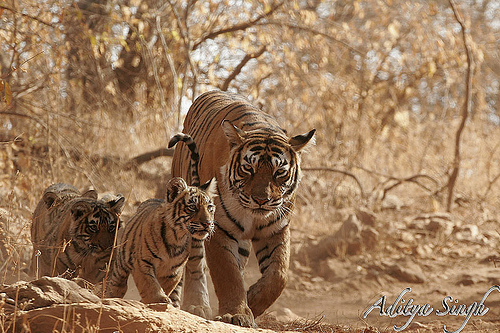Tigre: (188, 94, 307, 309), (121, 178, 217, 311), (34, 177, 125, 292)
